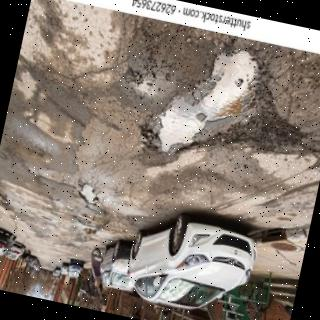pothole: (149, 50, 313, 155), (75, 182, 103, 209)
